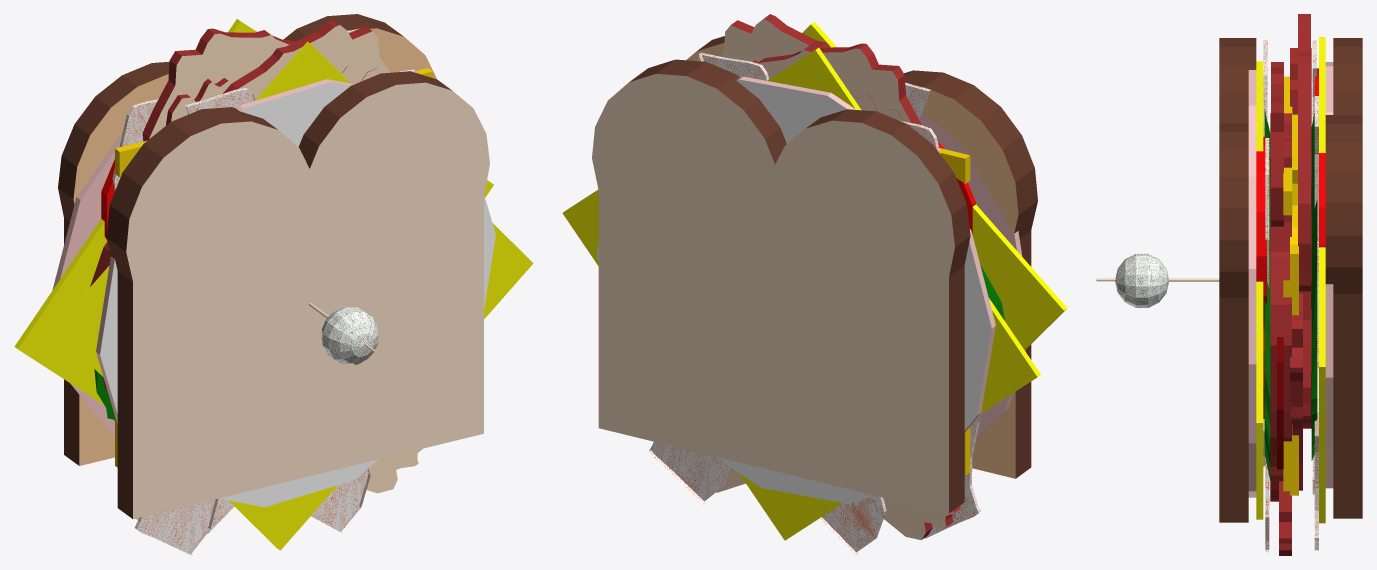
3 views of the same model, side by side, from view 1: azimuth 30°, elevation 25°; view 2: azimuth 150°, elevation 25°; view 3: azimuth 270°, elevation 25° (orthographic). The views are drawn at different scales.
Parts seen in each view (by area): view 1: sandwich; view 2: sandwich; view 3: sandwich.
Part boxes in pixels (x1=…): sandwich: x1=14, y1=14, x2=533, y2=555; sandwich: x1=562, y1=14, x2=1067, y2=555; sandwich: x1=1096, y1=14, x2=1362, y2=555.
Size of the model in its own units: 1922 by 1954 by 971.
